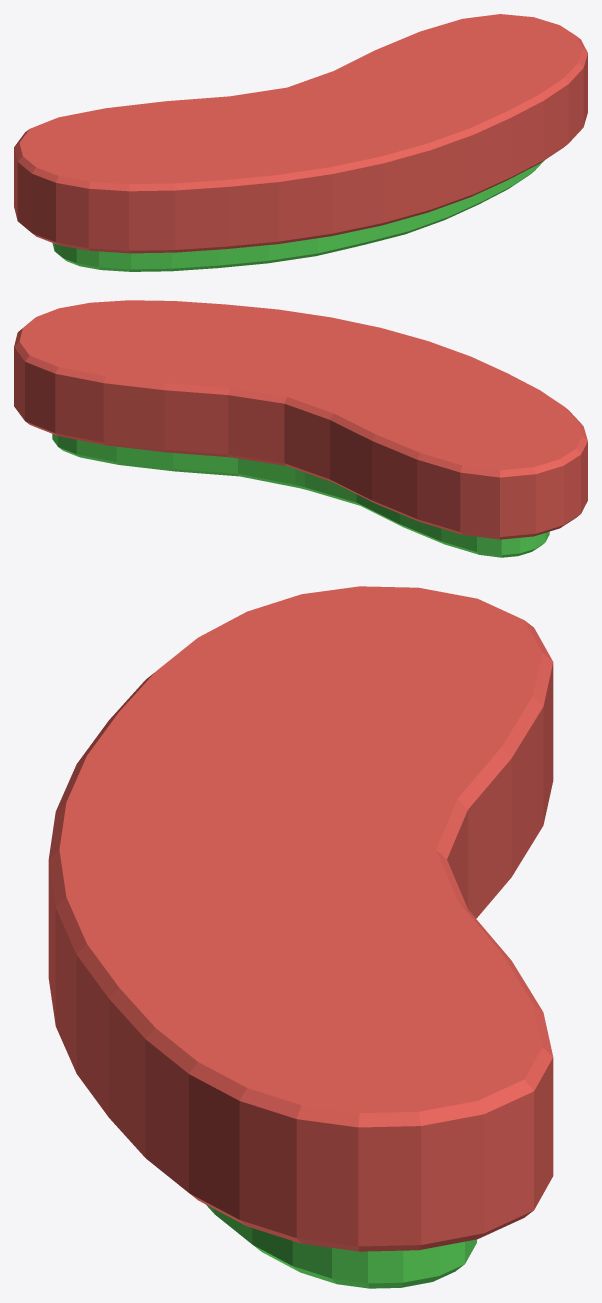
Rendered from corridoorChair.fbx.
3 renders of one model, top to bottom at view 1: azimuth 30°, elevation 25°; view 2: azimuth 150°, elevation 25°; view 3: azimuth 270°, elevation 25°, orthographic. The views are drawn at different scales.
Parts seen in each view (by area): view 1: Chair; view 2: Chair; view 3: Chair.
Boxes of the visible parts, x1=… form: Chair: x1=14, y1=14, x2=587, y2=271; Chair: x1=14, y1=300, x2=587, y2=557; Chair: x1=48, y1=586, x2=553, y2=1288.
Size of the model in its own units: 415 by 75 by 165.
